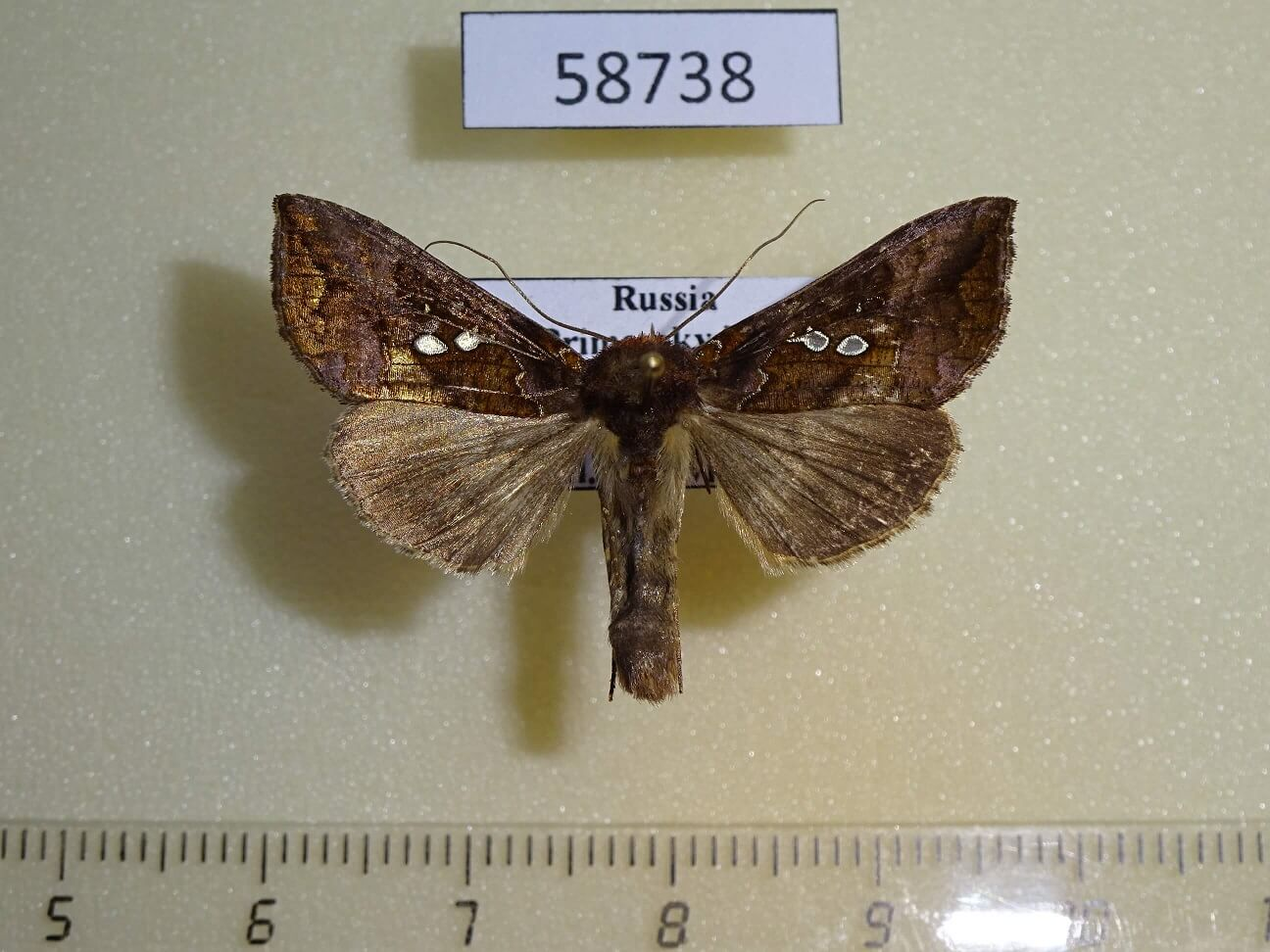Noctuidae: (266, 190, 1025, 709)
